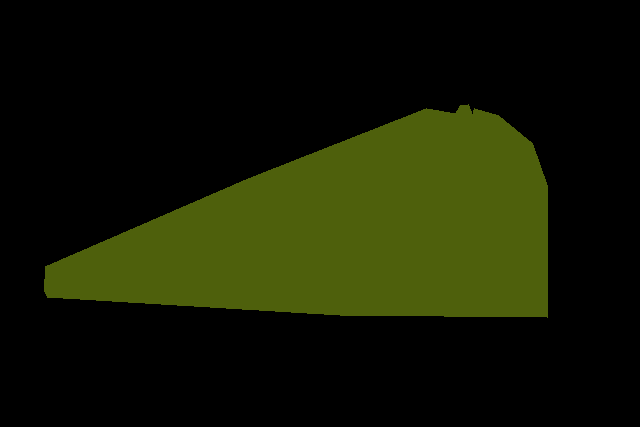Train: (44, 104, 548, 318)
